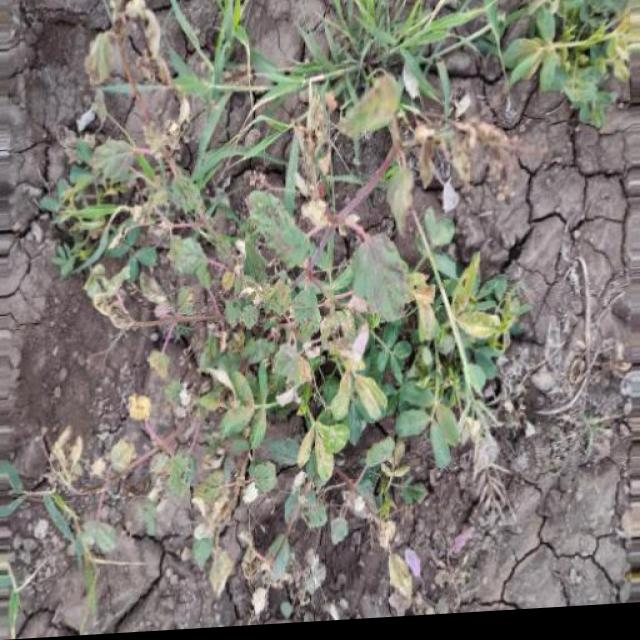weed: (71, 34, 528, 552)
